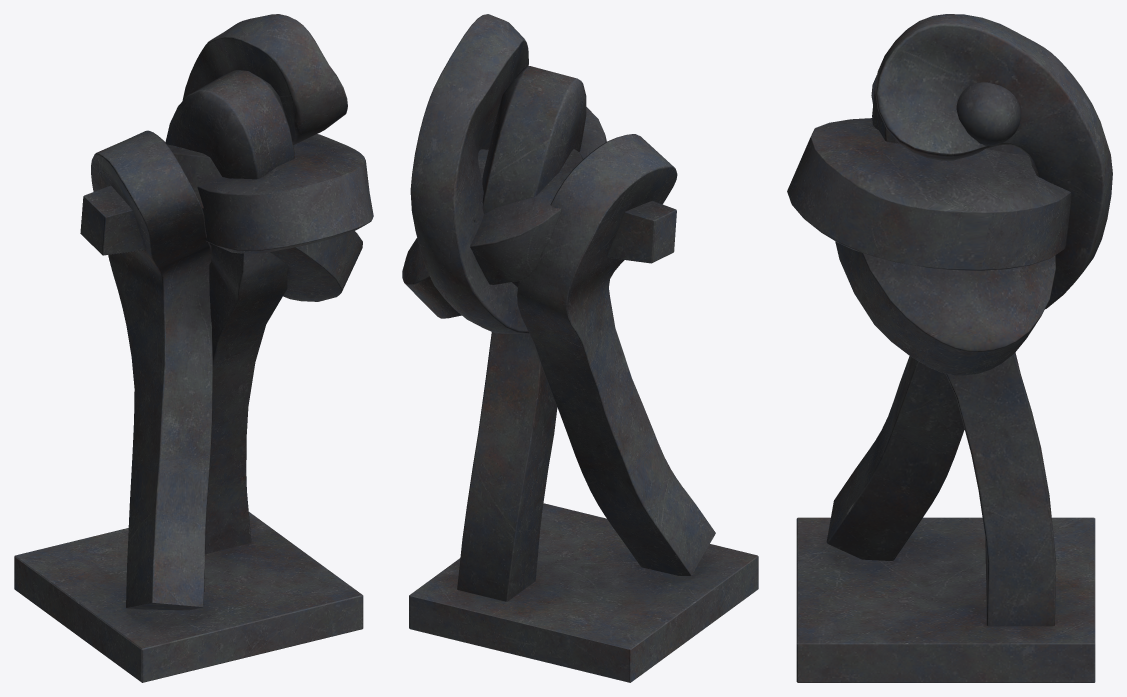
The model's file is DanseueEspagnole.glb.
The picture shows the model from 3 angles, left to right: view 1: azimuth 30°, elevation 25°; view 2: azimuth 150°, elevation 25°; view 3: azimuth 270°, elevation 25°; orthographic projection. The views are drawn at different scales.
Visible parts, largest first — view 1: SM_DanseueEspagnole; view 2: SM_DanseueEspagnole; view 3: SM_DanseueEspagnole.
Part boxes in pixels (<box>): SM_DanseueEspagnole: <box>14,14,373,682</box>; SM_DanseueEspagnole: <box>402,14,758,682</box>; SM_DanseueEspagnole: <box>787,14,1112,682</box>.
Size of the model in its own units: 1.4 by 2.72 by 1.22.
1 material, 1 textured.
